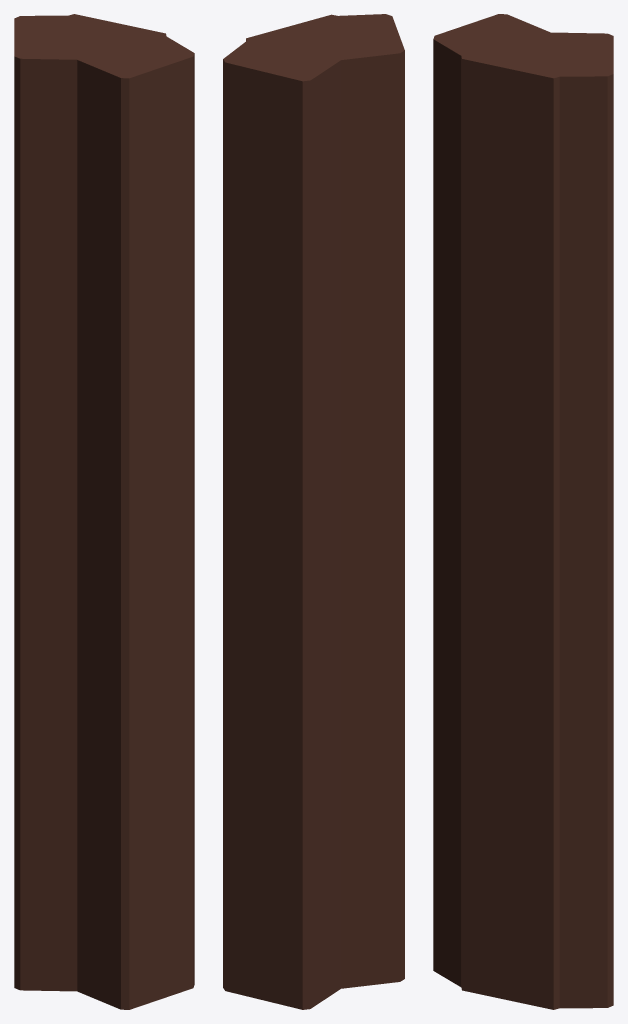
The model's file is Corner Post A-col.glb.
The picture shows the model from 3 angles, left to right: view 1: azimuth 90°, elevation 25°; view 2: azimuth 150°, elevation 25°; view 3: azimuth 270°, elevation 25°; orthographic projection.
Visible parts, largest first — view 1: Corner Post A-col.001; view 2: Corner Post A-col.001; view 3: Corner Post A-col.001.
Boxes of the visible parts, <box> form: Corner Post A-col.001: <box>14,14,194,1009</box>; Corner Post A-col.001: <box>223,14,404,1009</box>; Corner Post A-col.001: <box>433,14,613,1009</box>.
Bounding box in the file's own units: 0.3259 × 2.2 × 0.3854.
